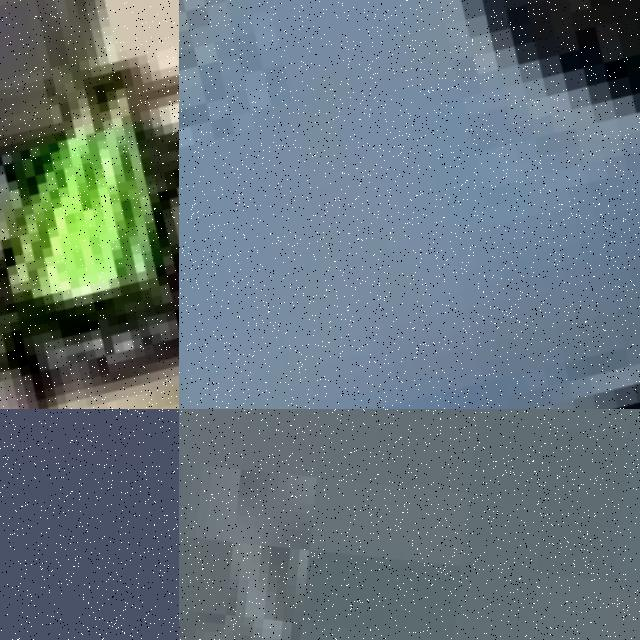drone: (179, 0, 640, 409), (0, 0, 179, 409)
